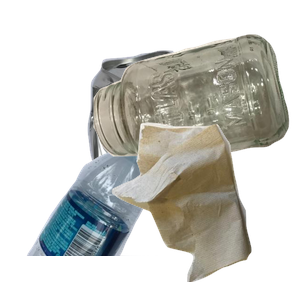glass: (91, 32, 300, 189)
metal: (85, 48, 300, 228)
plastic: (24, 120, 182, 300)
trash: (109, 120, 300, 300)
